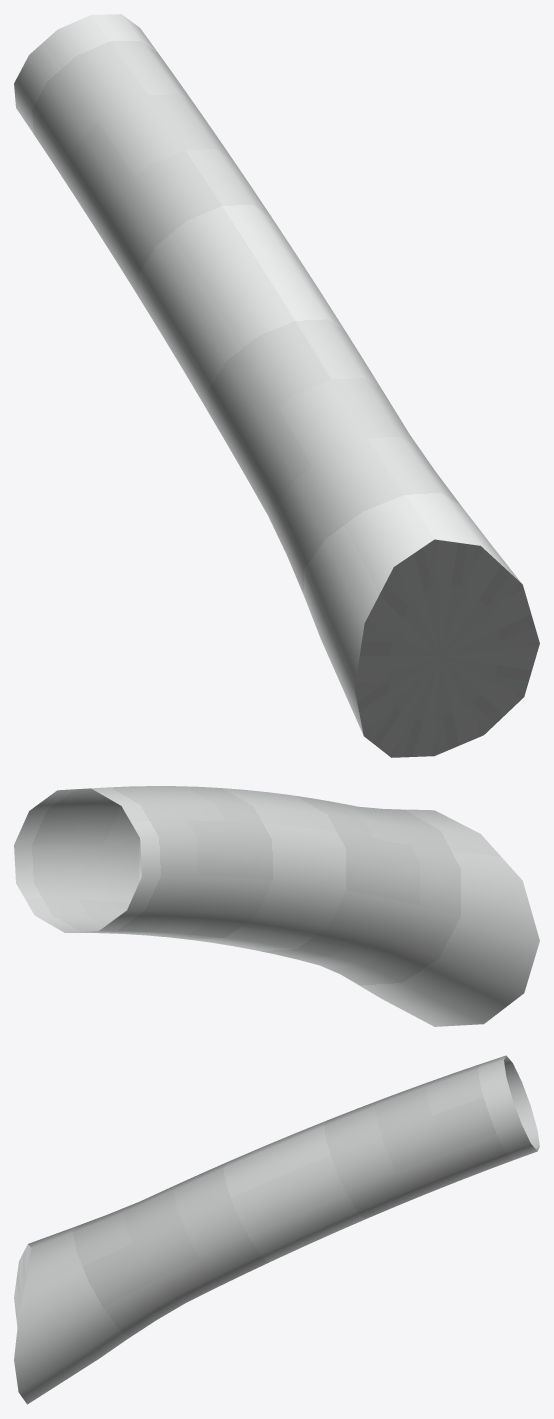
Rendered from luminairearm_caltrans8ftdouble_c0.obj.
The picture shows the model from 3 angles, top to bottom: view 1: azimuth 30°, elevation 25°; view 2: azimuth 150°, elevation 25°; view 3: azimuth 270°, elevation 25°; orthographic projection. The views are drawn at different scales.
Parts seen in each view (by area): view 1: luminairearm_caltrans8ftdouble_c0; view 2: luminairearm_caltrans8ftdouble_c0; view 3: luminairearm_caltrans8ftdouble_c0.
Part boxes in pixels (x1,y1,x2,y2): luminairearm_caltrans8ftdouble_c0: [14, 14, 539, 757]; luminairearm_caltrans8ftdouble_c0: [14, 786, 539, 1026]; luminairearm_caltrans8ftdouble_c0: [14, 1055, 539, 1404].
Size of the model in its own units: 0.3375 by 0.8527 by 1.21.
